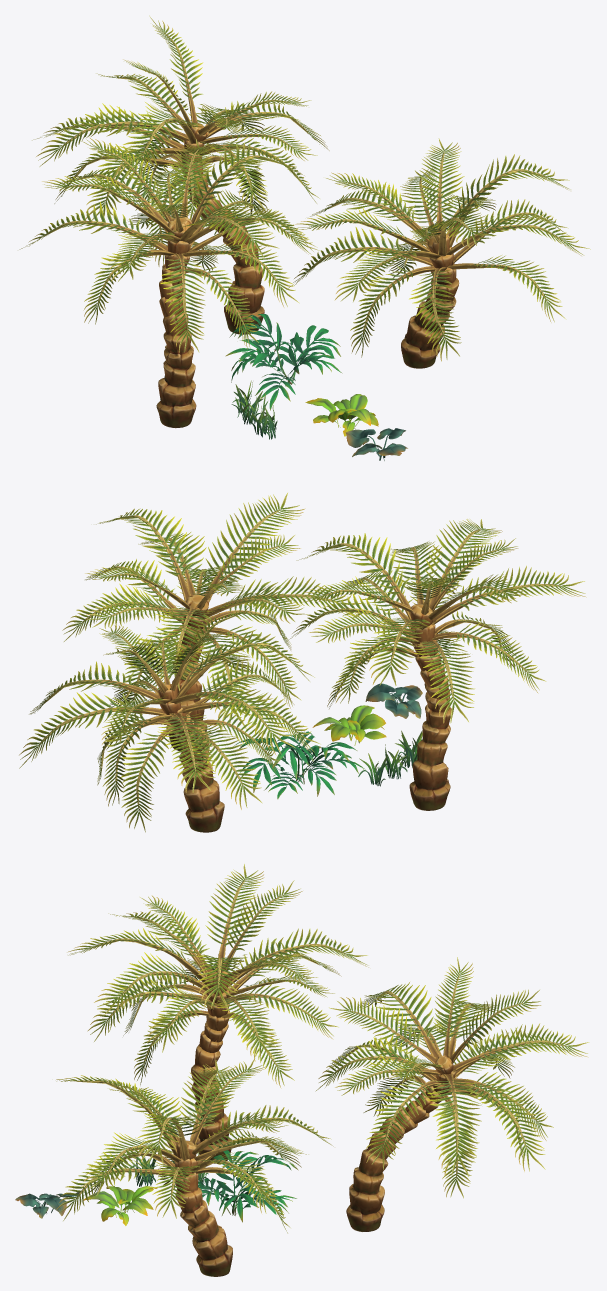
File: palmcluster.glb
3 renders of one model, top to bottom at view 1: azimuth 30°, elevation 25°; view 2: azimuth 150°, elevation 25°; view 3: azimuth 270°, elevation 25°, orthographic. The views are drawn at different scales.
Parts seen in each view (by area): view 1: SM_DatePalm_1_M_DatePalm_Leaves_2048_0, SM_Vegetation_1_M_Small_Vegetation_0; view 2: SM_DatePalm_1_M_DatePalm_Leaves_2048_0, SM_Vegetation_1_M_Small_Vegetation_0; view 3: SM_DatePalm_1_M_DatePalm_Leaves_2048_0, SM_Vegetation_1_M_Small_Vegetation_0.
Part boxes in pixels (x1,y1,x2,y2): SM_DatePalm_1_M_DatePalm_Leaves_2048_0: (19, 15, 590, 428); SM_Vegetation_1_M_Small_Vegetation_0: (225, 314, 407, 460); SM_DatePalm_1_M_DatePalm_Leaves_2048_0: (19, 493, 586, 832); SM_Vegetation_1_M_Small_Vegetation_0: (233, 683, 422, 799); SM_DatePalm_1_M_DatePalm_Leaves_2048_0: (56, 864, 589, 1276); SM_Vegetation_1_M_Small_Vegetation_0: (15, 1150, 298, 1225).
Bounding box in the file's own units: 9.96 × 5.18 × 10.64.
Materials: 2 (2 with a texture image).
